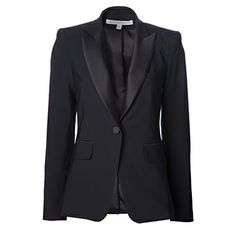F_W_suit jacket: (41, 3, 198, 227)
